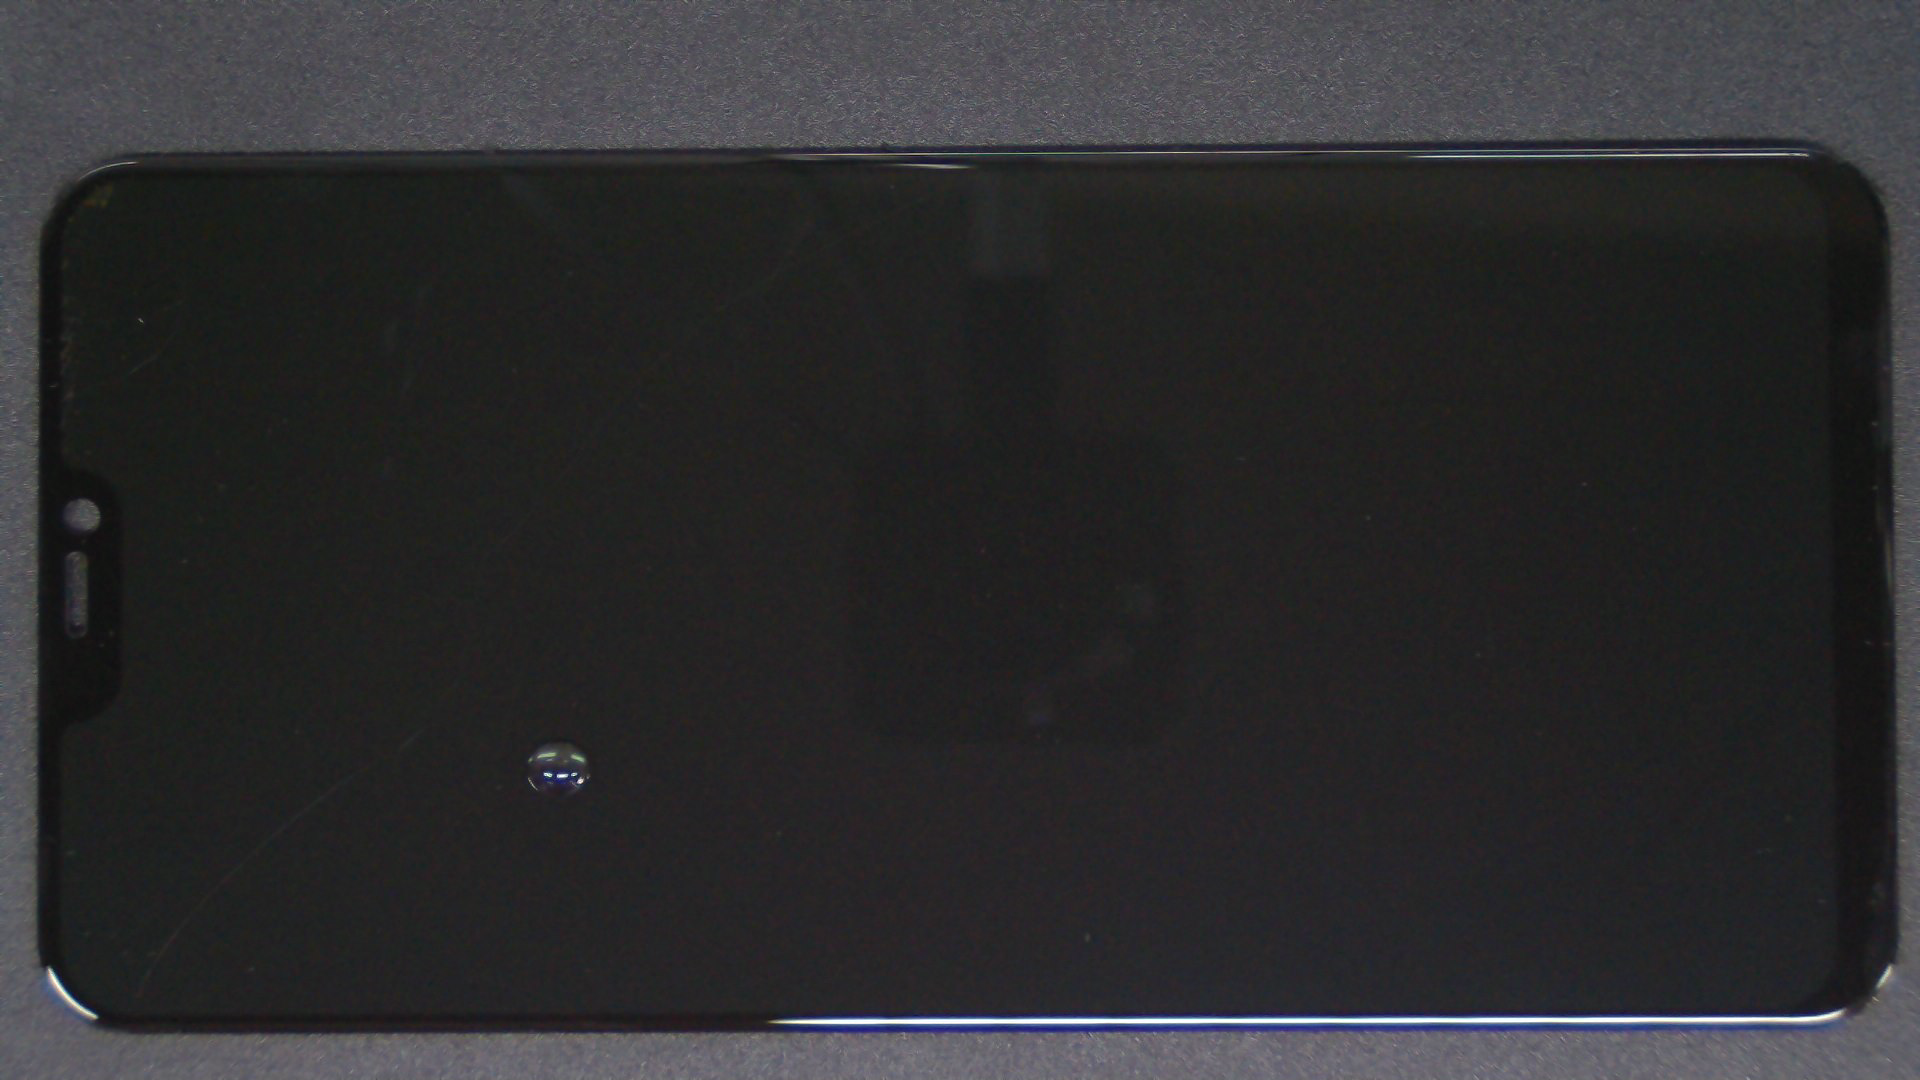defect: (526, 740, 591, 802)
